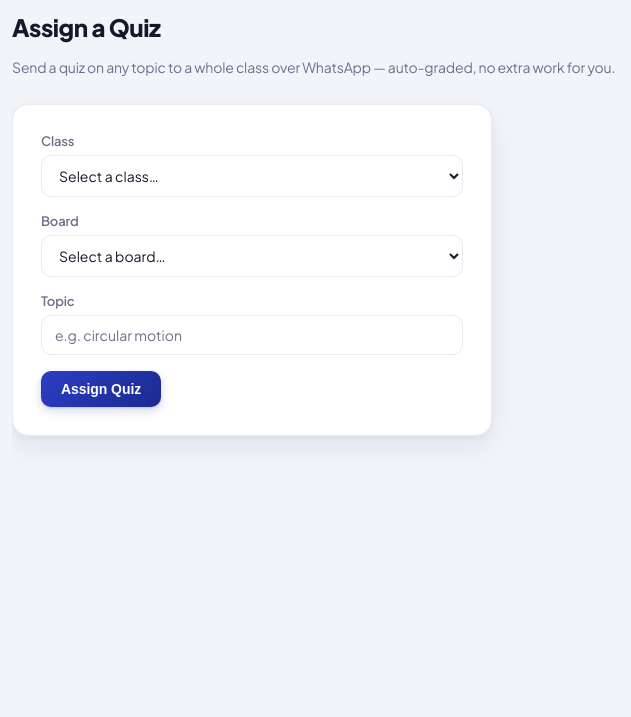
Scenario: AssignQuiz › fetches chapters for the selected class/board and lets one or more chapters be picked instead of a topic
The image size is (631, 717).
Select "Class 11" in the dropdown labelled "Class" at [252, 176], box [41,155,463,197]
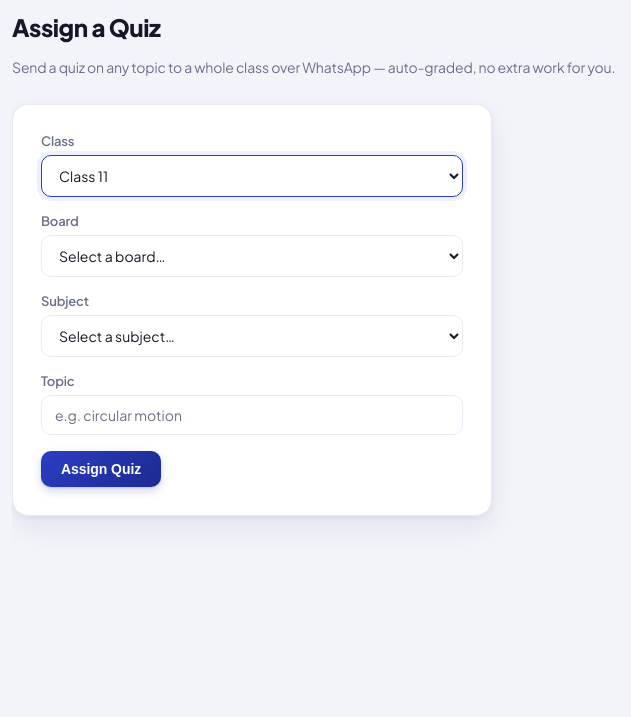
Select "Physics" in the dropdown labelled "Subject" at [252, 336], box [41,315,463,357]
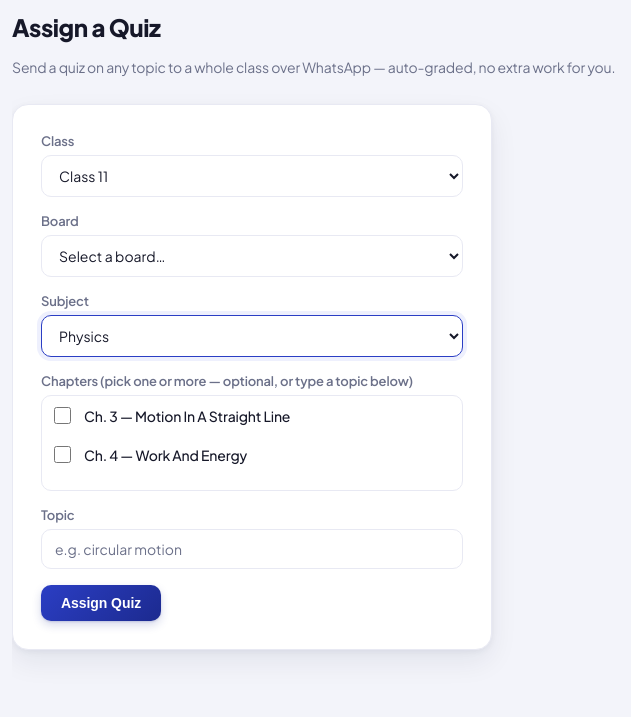
Click the text "Ch. 3 — Motion in a Straight Line" at [172, 416], box [54,407,290,425]
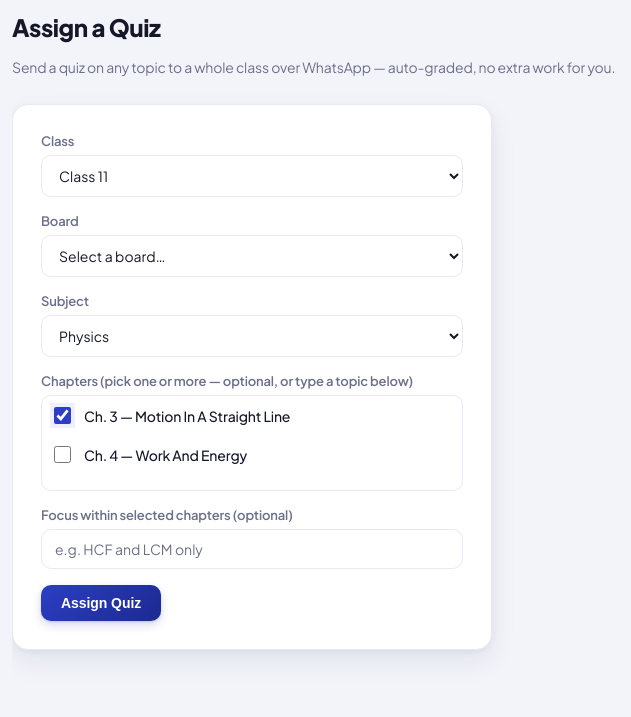
expect the field with placeholder "e.g. HCF and LCM only" is enabled: met, box [41,529,463,569]
Click the button "Assign Quiz" at [101, 603], box [41,585,161,621]
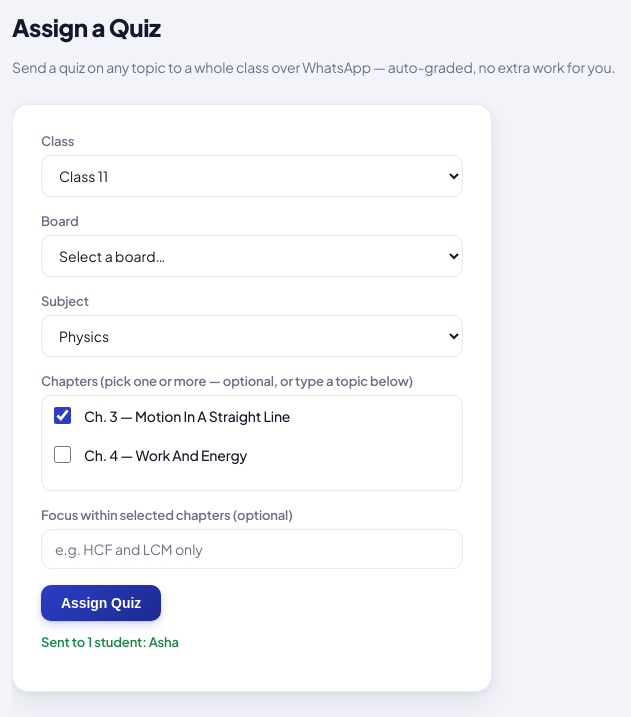
expect the text "Sent to 1 student: Asha" is shown: met, box [41,634,179,650]
